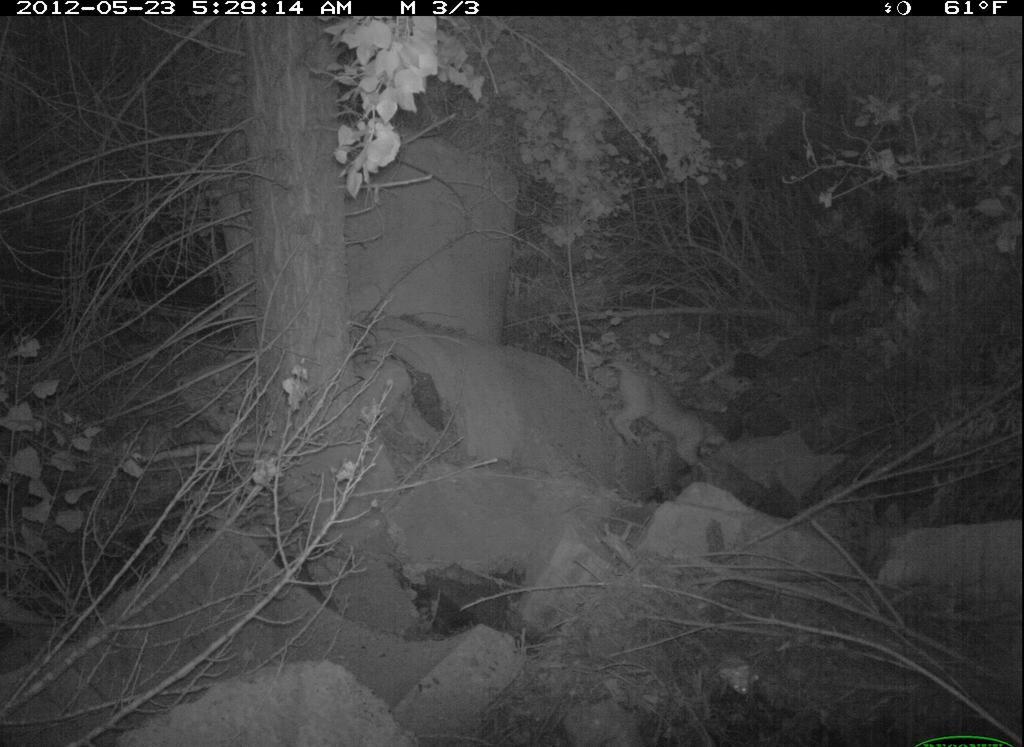bobcat: (586, 346, 747, 485)
